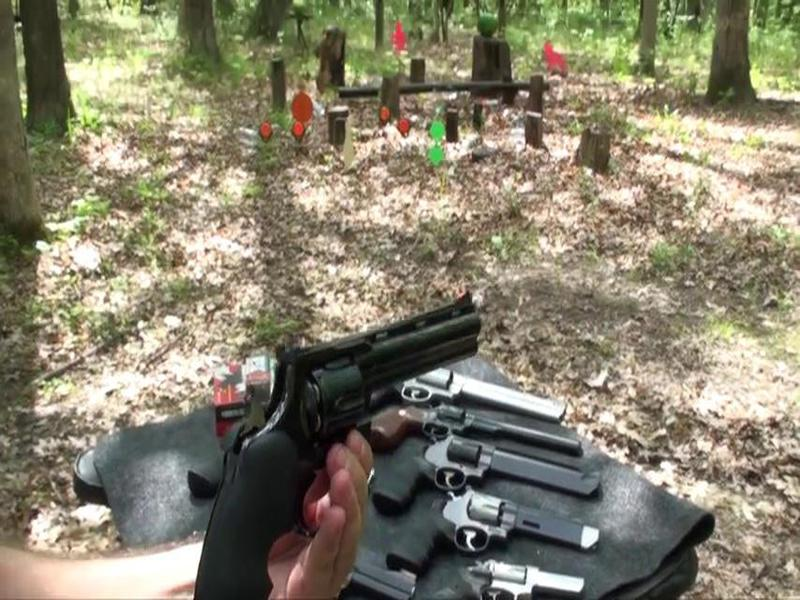Revolver: (167, 291, 498, 572)
